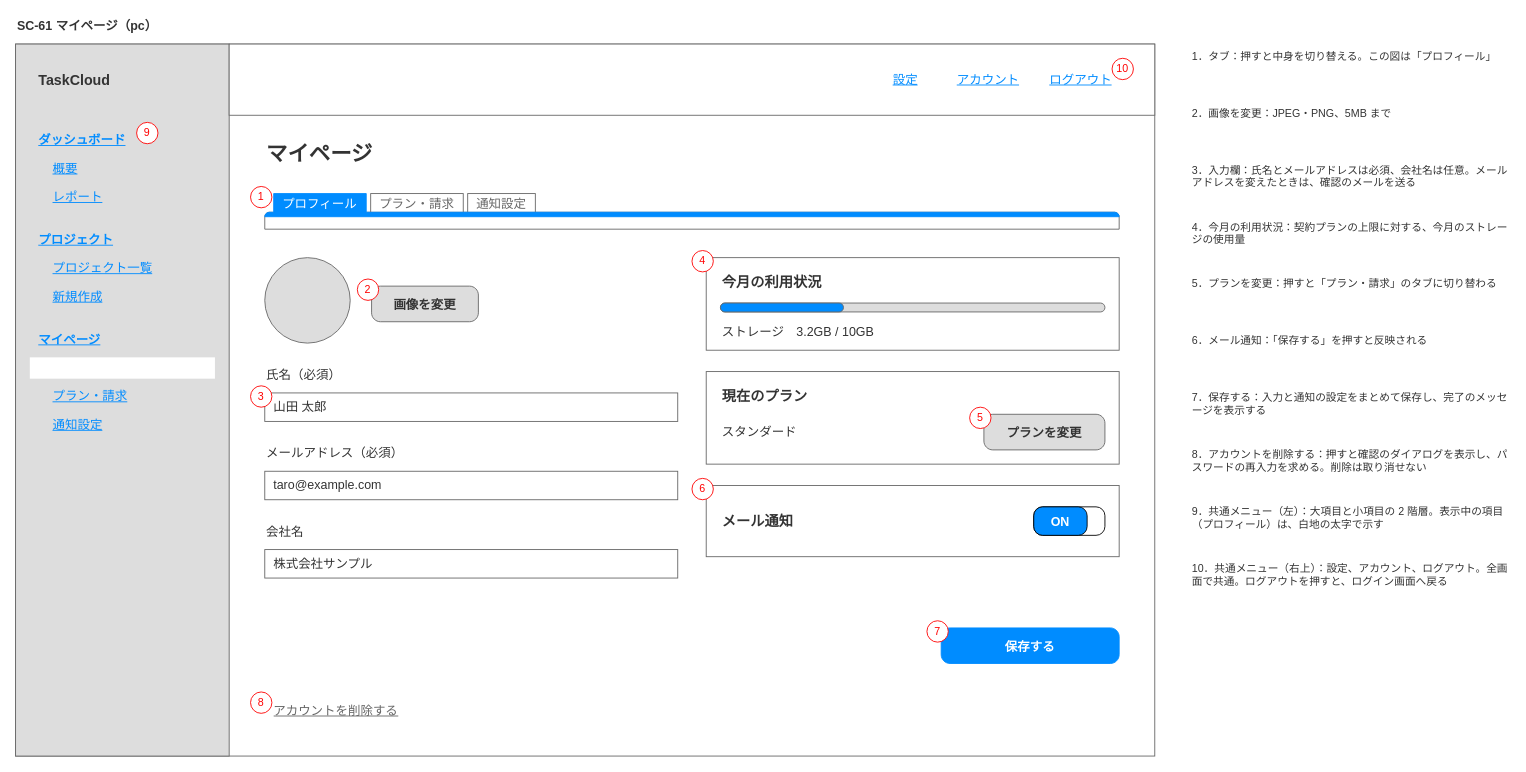
The diagram is 1526 pixels wide and 772 high, and some of its shapes have lost their labels. Each missing label, with the centre of its shape:
プロフィール: [121,367]
画像: [307,300]
